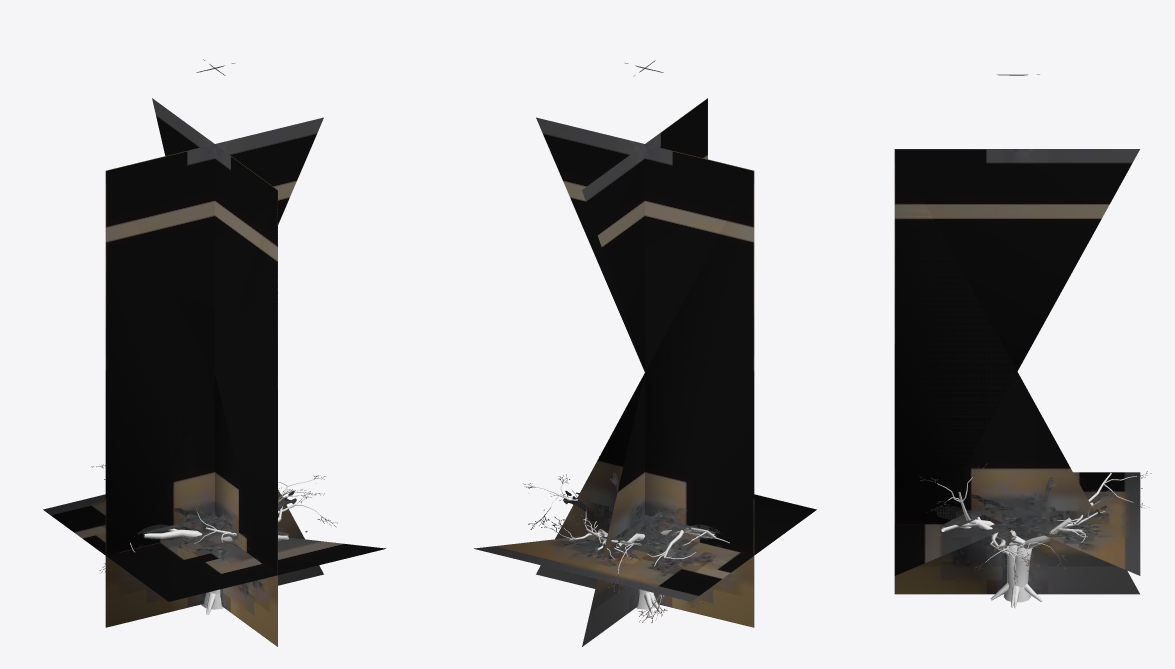
The model's file is tree-twistedoak.glb.
3 renders of one model, left to right at view 1: azimuth 30°, elevation 25°; view 2: azimuth 150°, elevation 25°; view 3: azimuth 270°, elevation 25°, orthographic. The views are drawn at different scales.
Visible parts, largest first — view 1: impostor-1, impostor-0, lod0-wood-0; view 2: impostor-1, impostor-0, lod0-wood-0; view 3: impostor-1, impostor-0, lod0-wood-0, lod0-wood-1, lod0-leaves-0.
Boxes of the visible parts, bbox=[...] form: impostor-1: bbox=[43, 98, 385, 646]; impostor-0: bbox=[104, 59, 307, 608]; lod0-wood-0: bbox=[130, 479, 320, 614]; impostor-1: bbox=[474, 98, 816, 646]; impostor-0: bbox=[543, 60, 724, 609]; lod0-wood-0: bbox=[537, 484, 729, 612]; impostor-1: bbox=[894, 149, 1140, 594]; impostor-0: bbox=[926, 74, 1142, 594]; lod0-wood-0: bbox=[937, 473, 1136, 607]; lod0-wood-1: bbox=[975, 500, 1105, 608]; lod0-leaves-0: bbox=[919, 463, 1151, 584].
Size of what is drawn, in the model's own units: 20.74 by 41.67 by 20.74.
Materials: 4 (3 with a texture image).
